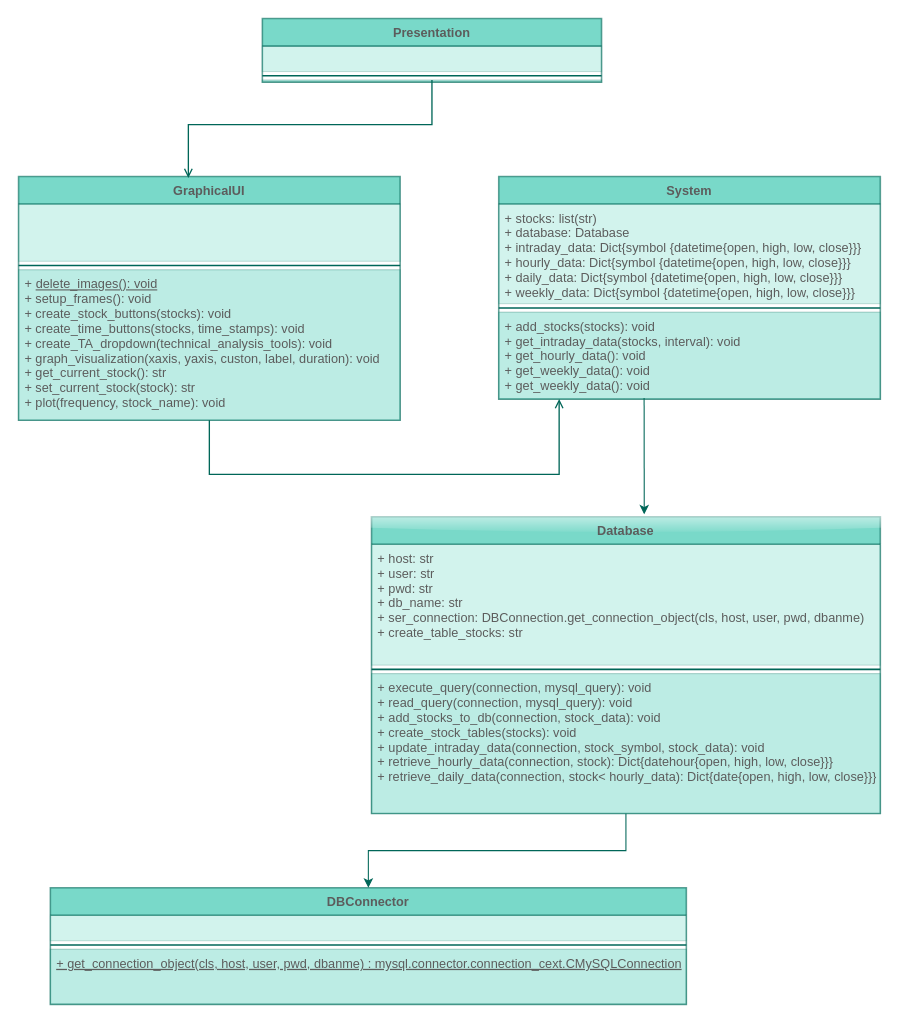
This 900x1026 diagram has some shape labels left out. Here are the shapes that lost their labels. From the top down, the centre of each, then its label:
At [431,58]: "+ GUI: GraphicalUI".
At [208,232]: "+ sys: System + HEIGHT: int + WIDTH: int".
At [367,927]: "- connection : None".
